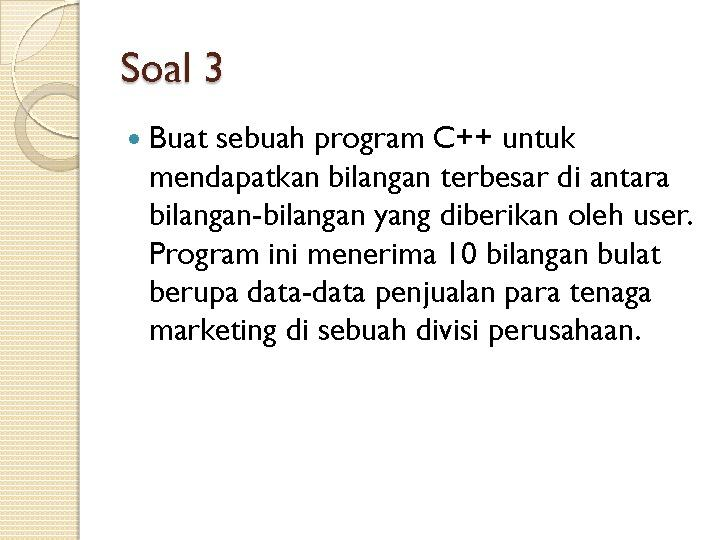paragraph: (125, 121, 710, 373)
title: (116, 42, 248, 109)
